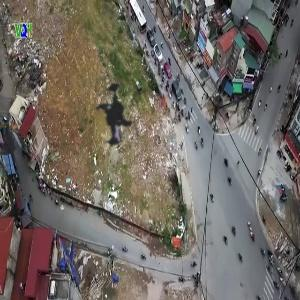drone: (49, 56, 174, 181)
